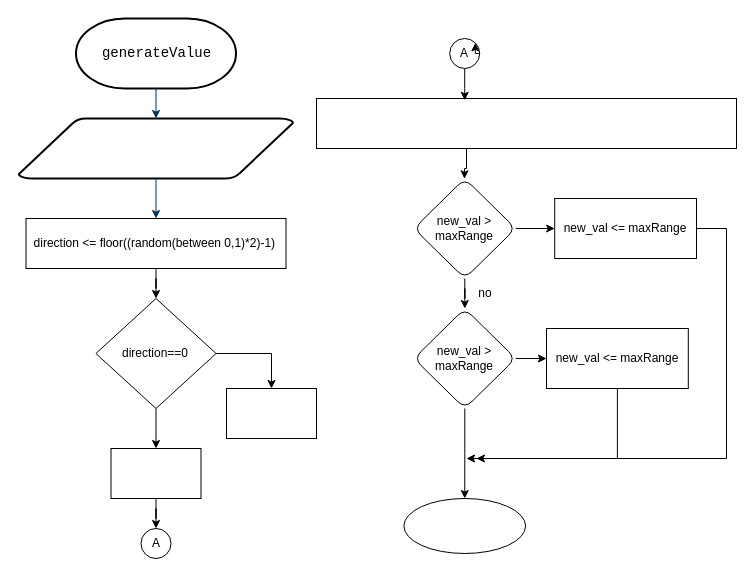
Image size: 754x576. Some labels were removed from this diagram. The centre of each missing label's shape, as x and y in pixels:
direction <= -1: point 271,413
direction <=1: point 155,473
new_val <= (pre_val + direction*(random(between 0,1) * maxChangeInValue): point 526,123
pre_val,minRange, maxRange,maxChangeInValue: point 155,148
return new_val: point 464,526
